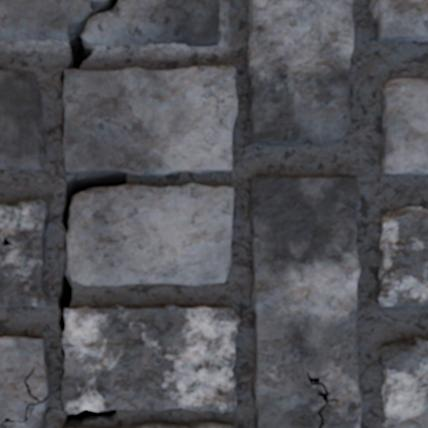brick: (249, 176, 360, 427), (63, 66, 236, 177), (61, 305, 239, 412), (66, 183, 233, 285), (247, 0, 353, 145), (0, 198, 48, 308), (378, 206, 427, 306), (379, 337, 427, 427), (0, 70, 44, 168), (382, 79, 427, 173), (0, 337, 47, 422), (368, 0, 427, 41), (0, 401, 46, 427), (122, 421, 233, 427), (63, 425, 89, 427)
broken_brick: (83, 0, 220, 46), (0, 0, 96, 42)
crack: (57, 0, 118, 84), (60, 172, 127, 232), (0, 366, 48, 426), (56, 256, 73, 332), (64, 408, 117, 424), (61, 347, 65, 356), (64, 240, 67, 248), (62, 126, 64, 136)
